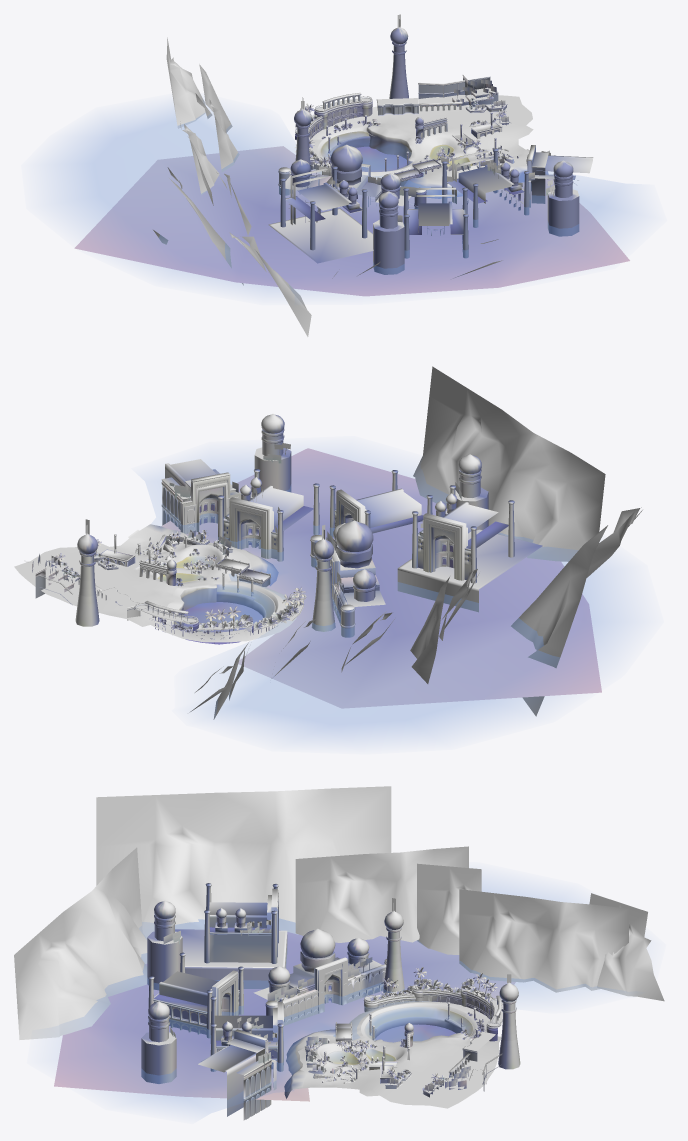
The model's file is 03Oasis.gltf.
3 views of the same model, one above another, from view 1: azimuth 30°, elevation 25°; view 2: azimuth 150°, elevation 25°; view 3: azimuth 270°, elevation 25° (orthographic). The views are drawn at different scales.
Visible parts, largest first — view 1: stg010_w26_Mesh_0000, stg010_a33_Mesh_0002, stg010_o31_Mesh_0000, stg010_o33_Mesh_0021, stg010_p11_Mesh_0004, stg010_o33_Mesh_0014, stg010_o10_Mesh_0007, stg010_o30_Mesh_0006, stg010_o30_Mesh_0001, stg010_a28_Mesh_0003, stg010_o30_Mesh_0003, stg010_o30_Mesh_0002 (+7 smaller); view 2: stg010_w26_Mesh_0000, stg010_a33_Mesh_0002, stg010_p11_Mesh_0004, stg010_o31_Mesh_0000, stg010_o33_Mesh_0021, stg010_o10_Mesh_0007, stg010_o33_Mesh_0014, stg010_o30_Mesh_0004, stg010_o30_Mesh_0006, stg010_o30_Mesh_0001, stg010_o30_Mesh_0003, stg010_o30_Mesh_0002 (+7 smaller); view 3: stg010_p11_Mesh_0004, stg010_w26_Mesh_0000, stg010_a33_Mesh_0002, stg010_o31_Mesh_0000, stg010_o33_Mesh_0021, stg010_o10_Mesh_0007, stg010_o30_Mesh_0003, stg010_o30_Mesh_0001, stg010_o30_Mesh_0004, stg010_o33_Mesh_0014, stg010_o30_Mesh_0006, stg010_p33_Mesh_0000 (+10 smaller).
Boxes of the visible parts, x1,y1,x2,y2 form: stg010_w26_Mesh_0000: (48,103,641,294); stg010_a33_Mesh_0002: (74,131,629,296); stg010_o31_Mesh_0000: (268,75,593,263); stg010_o33_Mesh_0021: (310,95,533,179); stg010_p11_Mesh_0004: (153,37,502,336); stg010_o33_Mesh_0014: (271,87,578,262); stg010_o10_Mesh_0007: (281,97,579,274); stg010_o30_Mesh_0006: (279,45,529,258); stg010_o30_Mesh_0001: (290,27,573,208); stg010_a28_Mesh_0003: (367,125,548,198); stg010_o30_Mesh_0003: (291,42,573,224); stg010_o30_Mesh_0002: (281,42,572,223); stg010_w26_Mesh_0000: (144,452,633,742); stg010_a33_Mesh_0002: (158,448,601,708); stg010_p11_Mesh_0004: (189,366,642,719); stg010_o31_Mesh_0000: (24,429,542,643); stg010_o33_Mesh_0021: (14,527,296,642); stg010_o10_Mesh_0007: (79,454,513,631); stg010_o33_Mesh_0014: (27,447,539,631); stg010_o30_Mesh_0004: (35,481,461,632); stg010_o30_Mesh_0006: (81,480,514,637); stg010_o30_Mesh_0001: (48,414,481,616); stg010_o30_Mesh_0003: (79,429,481,624); stg010_o30_Mesh_0002: (37,428,513,632); stg010_p11_Mesh_0004: (14,786,664,1039); stg010_w26_Mesh_0000: (62,877,612,1114); stg010_a33_Mesh_0002: (54,930,515,1101); stg010_o31_Mesh_0000: (141,883,503,1120); stg010_o33_Mesh_0021: (300,1001,501,1108); stg010_o10_Mesh_0007: (141,887,500,1083); stg010_o30_Mesh_0003: (148,889,516,1083); stg010_o30_Mesh_0001: (148,900,518,1095); stg010_o30_Mesh_0004: (217,895,517,1100); stg010_o33_Mesh_0014: (141,930,503,1092); stg010_o30_Mesh_0006: (148,892,515,1091); stg010_p33_Mesh_0000: (163,922,466,1094).
Size of the model in its own units: 888 by 224 by 917.
